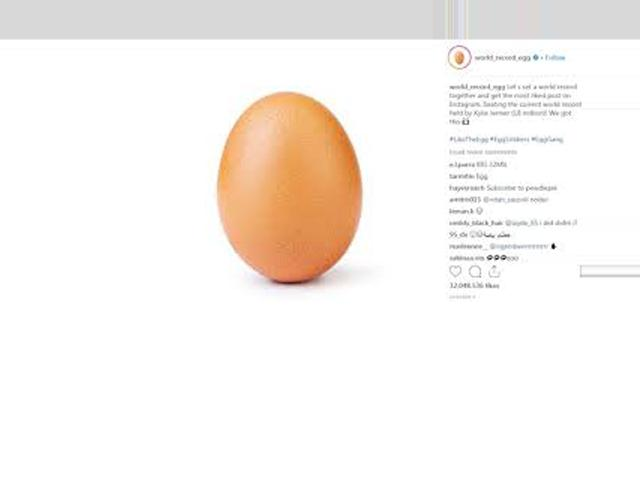egg: (216, 92, 361, 281)
